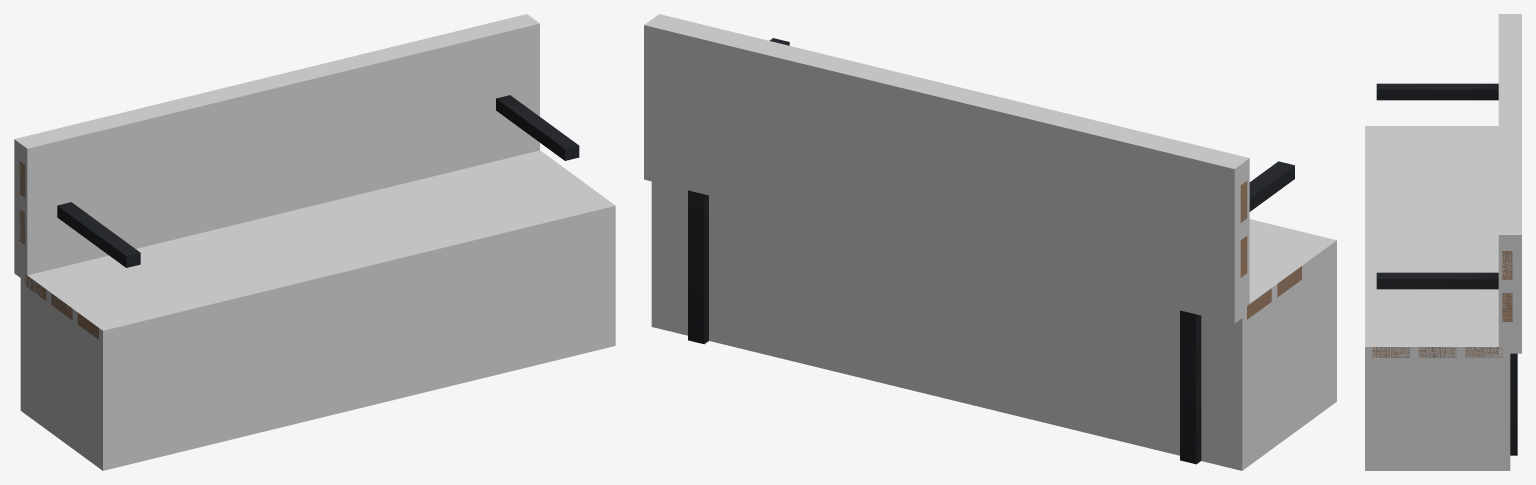
File: bench.glb
3 views of the same model, side by side, from view 1: azimuth 30°, elevation 25°; view 2: azimuth 150°, elevation 25°; view 3: azimuth 270°, elevation 25° (orthographic). The views are drawn at different scales.
Visible parts, largest first — view 1: COL_Seat, COL_Back, Bench; view 2: COL_Back, COL_Seat, Bench; view 3: COL_Seat, COL_Back, Bench.
Part boxes in pixels (x1,y1,x2,y2): COL_Seat: (20, 150, 615, 470); COL_Back: (14, 14, 539, 282); Bench: (19, 95, 579, 339); COL_Back: (644, 14, 1249, 323); COL_Seat: (651, 181, 1336, 470); Bench: (688, 38, 1301, 464); COL_Seat: (1365, 126, 1510, 470); COL_Back: (1498, 14, 1521, 353); Bench: (1372, 83, 1517, 455).
Bounding box in the file's own units: 1.8 × 0.8951 × 0.54.
2 materials, 2 textured.
